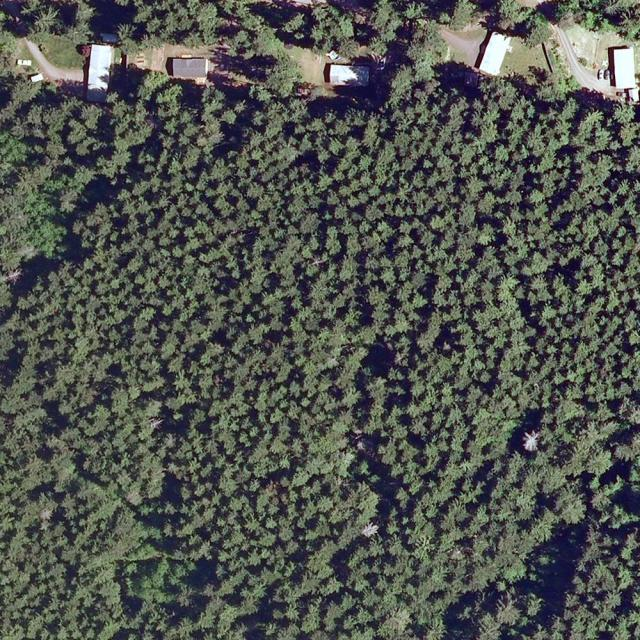building: (78, 41, 114, 104), (471, 28, 514, 78), (608, 46, 636, 89), (325, 64, 370, 86), (172, 58, 208, 79)
greenland: (0, 74, 640, 640), (381, 28, 444, 115), (398, 19, 457, 84), (260, 39, 309, 101)
metalled_road: (538, 22, 620, 108), (14, 38, 87, 94)
